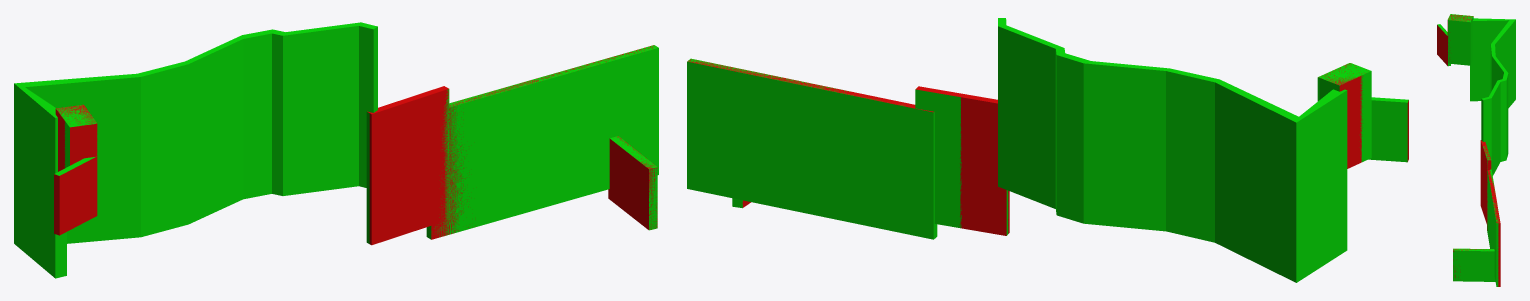
Rendered from InvisibleWall_005.fbx.
3 views of the same model, side by side, from view 1: azimuth 30°, elevation 25°; view 2: azimuth 150°, elevation 25°; view 3: azimuth 270°, elevation 25° (orthographic). The views are drawn at different scales.
Parts seen in each view (by area): view 1: Designer122, Designer44, InvisibleWall_005_Phys, Designer34, Designer219, Designer204; view 2: Designer122, Designer44, InvisibleWall_005_Phys, Designer34, Designer182, Designer204; view 3: Designer122, InvisibleWall_005_Phys, Designer219, Designer204, Designer44, Designer34.
Boxes of the visible parts, box(x1,y1,x2,y2) form: Designer122: box(14, 22, 377, 278); Designer44: box(426, 45, 658, 239); InvisibleWall_005_Phys: box(54, 45, 657, 245); Designer34: box(366, 89, 449, 243); Designer219: box(610, 136, 657, 230); Designer204: box(56, 105, 97, 168); Designer122: box(998, 18, 1347, 282); Designer44: box(687, 58, 937, 239); InvisibleWall_005_Phys: box(687, 59, 1408, 235); Designer34: box(915, 89, 1008, 235); Designer182: box(1368, 97, 1408, 162); Designer204: box(1317, 63, 1371, 162); Designer122: box(1470, 18, 1515, 175); InvisibleWall_005_Phys: box(1437, 14, 1500, 286); Designer219: box(1453, 248, 1495, 281); Designer204: box(1447, 14, 1473, 65); Designer44: box(1487, 169, 1498, 286); Designer34: box(1482, 143, 1491, 225).
Bounding box in the file's own units: 15742 × 5614 × 3256.
